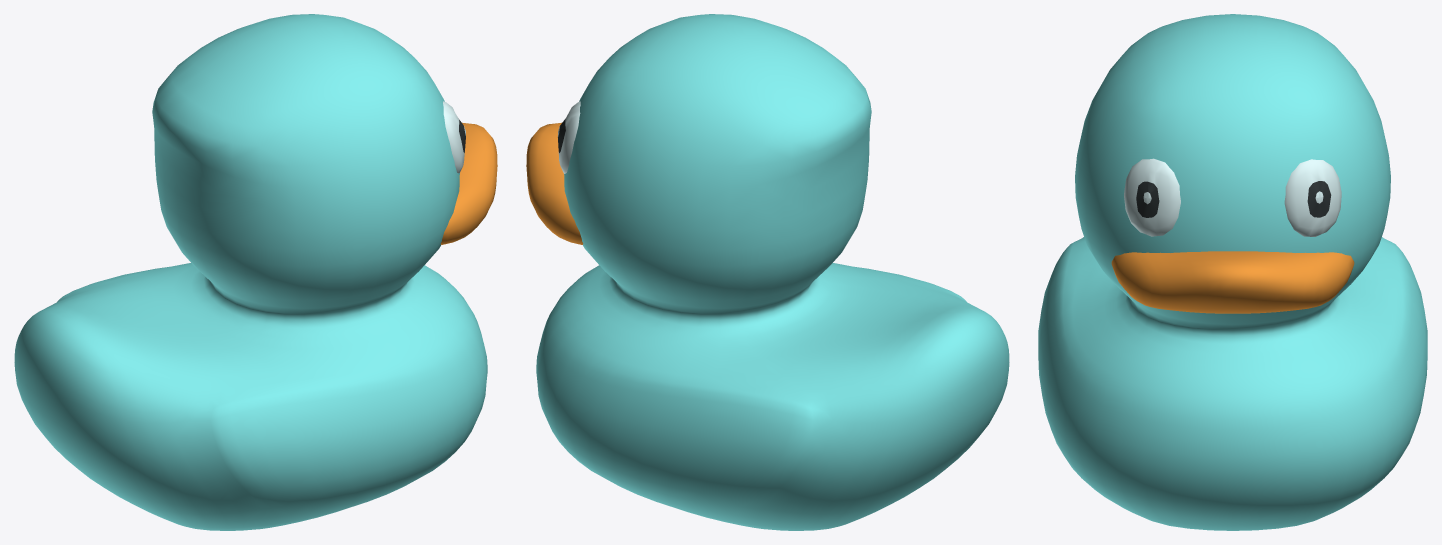
The model's file is Rubber Ducky Cyan.fbx.
The picture shows the model from 3 angles, left to right: view 1: azimuth 30°, elevation 25°; view 2: azimuth 150°, elevation 25°; view 3: azimuth 270°, elevation 25°; orthographic projection. The views are drawn at different scales.
Visible parts, largest first — view 1: Rubber_Duck; view 2: Rubber_Duck; view 3: Rubber_Duck.
Boxes of the visible parts, x1,y1,x2,y2 form: Rubber_Duck: (14,14,497,530); Rubber_Duck: (526,14,1009,530); Rubber_Duck: (1038,14,1427,530).
Bounding box in the file's own units: 8.53 × 8.27 × 6.1.
Materials: 1 (1 with a texture image).
